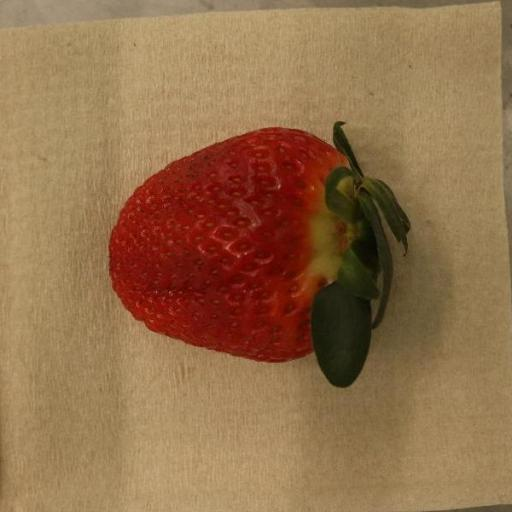Strawberry: (110, 124, 413, 389)
